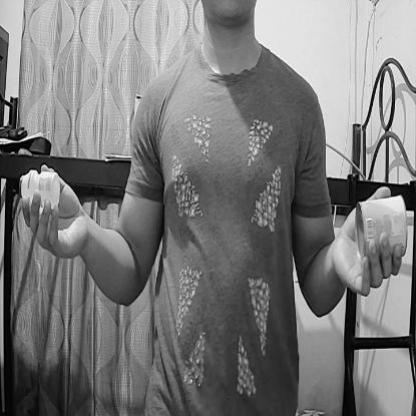Can: (353, 198, 407, 260)
Others: (20, 167, 62, 209)
